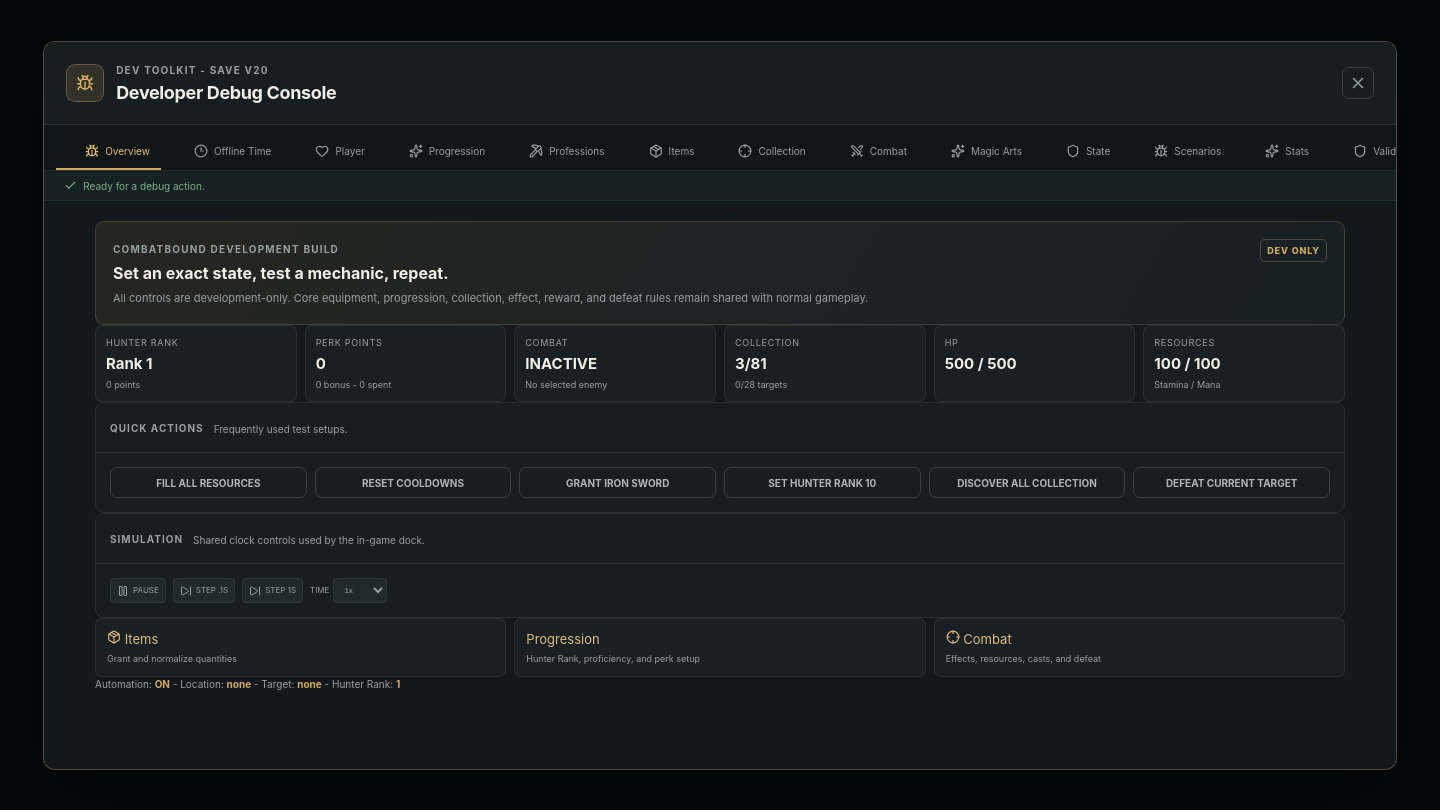
Test: Developer Toolkit V9.3.1 selector stability › groups Mining and Blacksmithing under independent collapsible profession panels
The width and height of the screenshot is (1440, 810).
Click the button "Professions" at (558, 152), box [500,133,616,170]
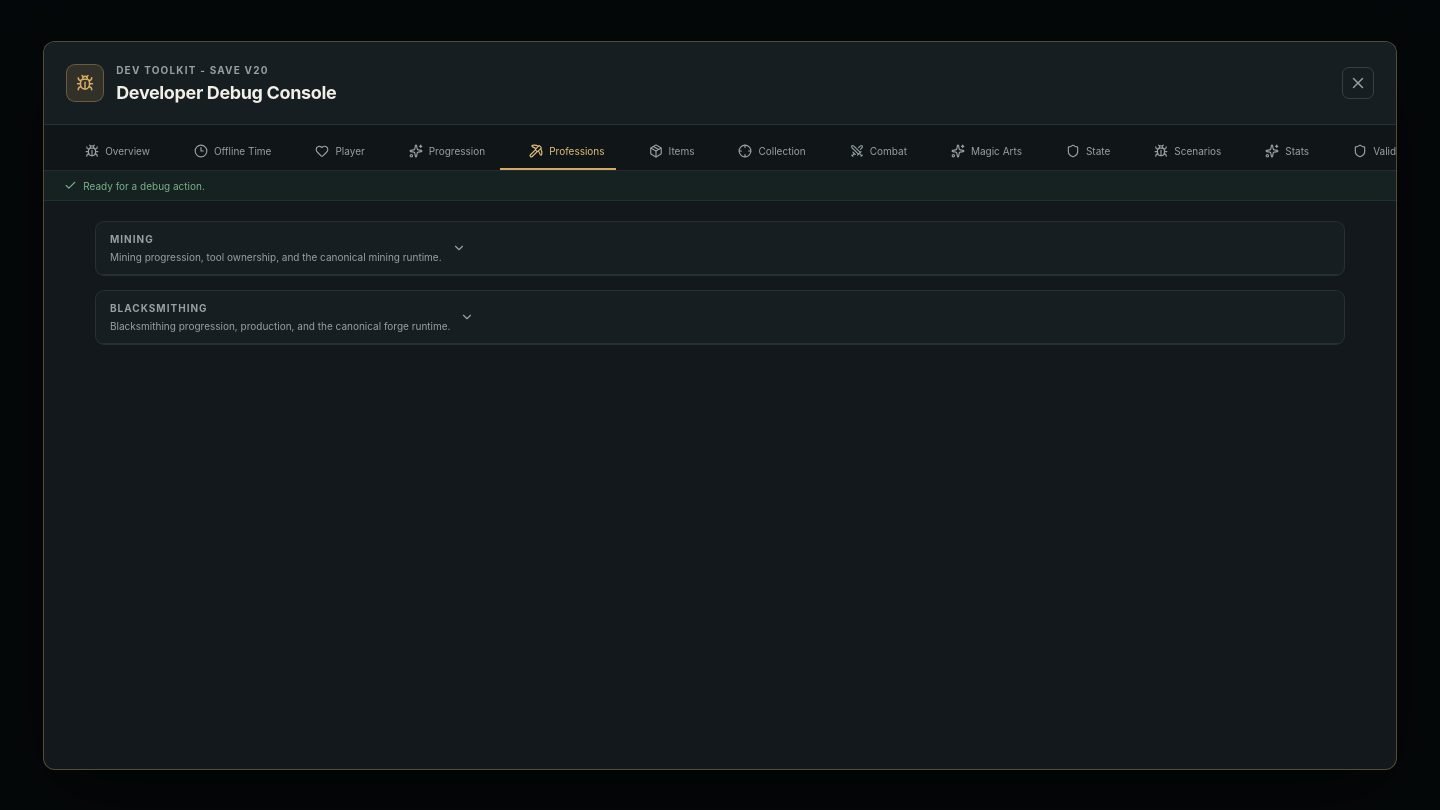
Click the button "Mining " at (132, 239), box [110,232,1330,264]
(page scrolled)
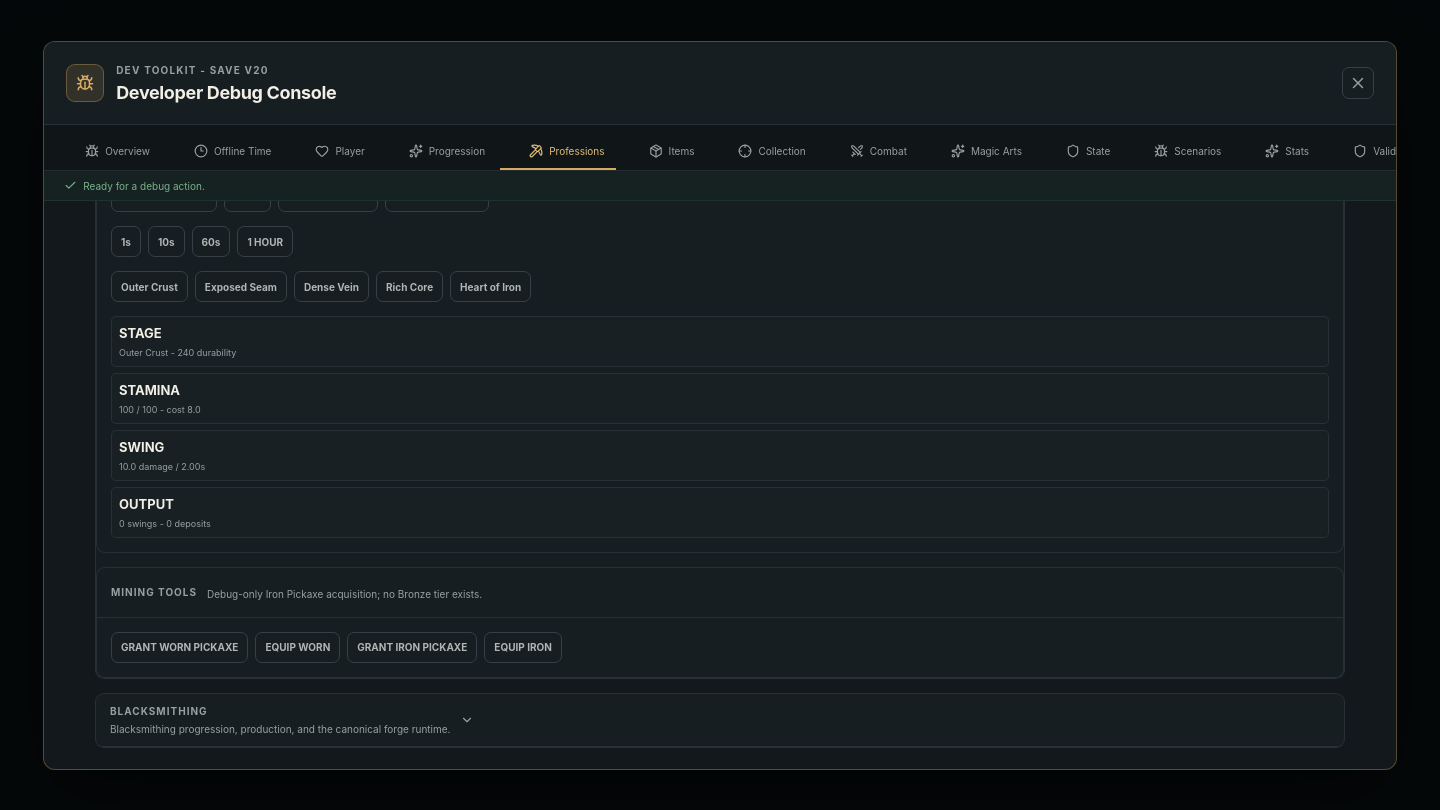
Click the button "Blacksmithing " at (159, 711), box [110,704,1330,736]
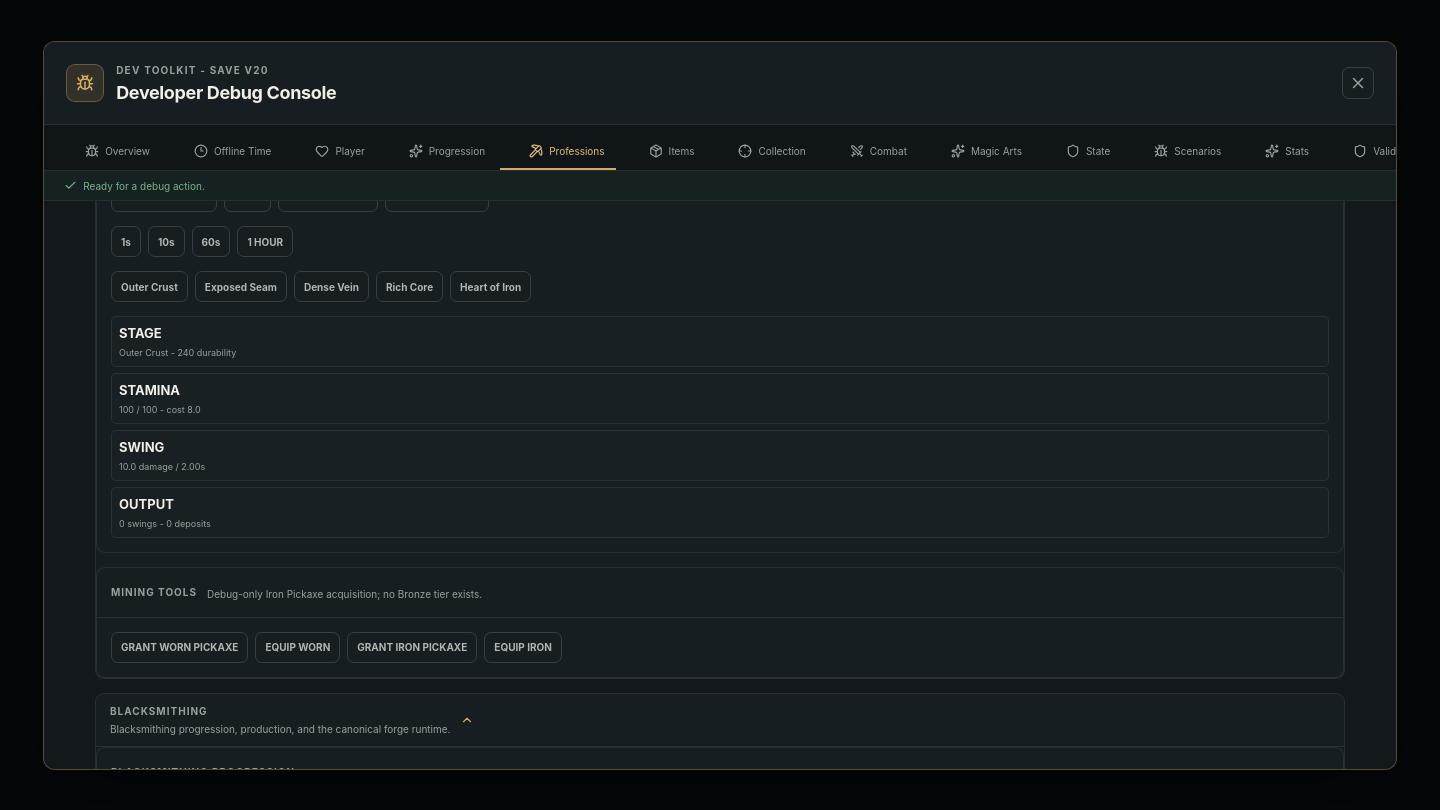
Expected: the button "Blacksmithing " is expanded, [110,704,1330,736]
